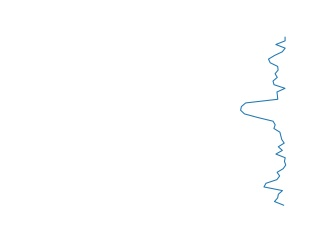interdistributaryEstuary: (236, 36, 294, 208)
